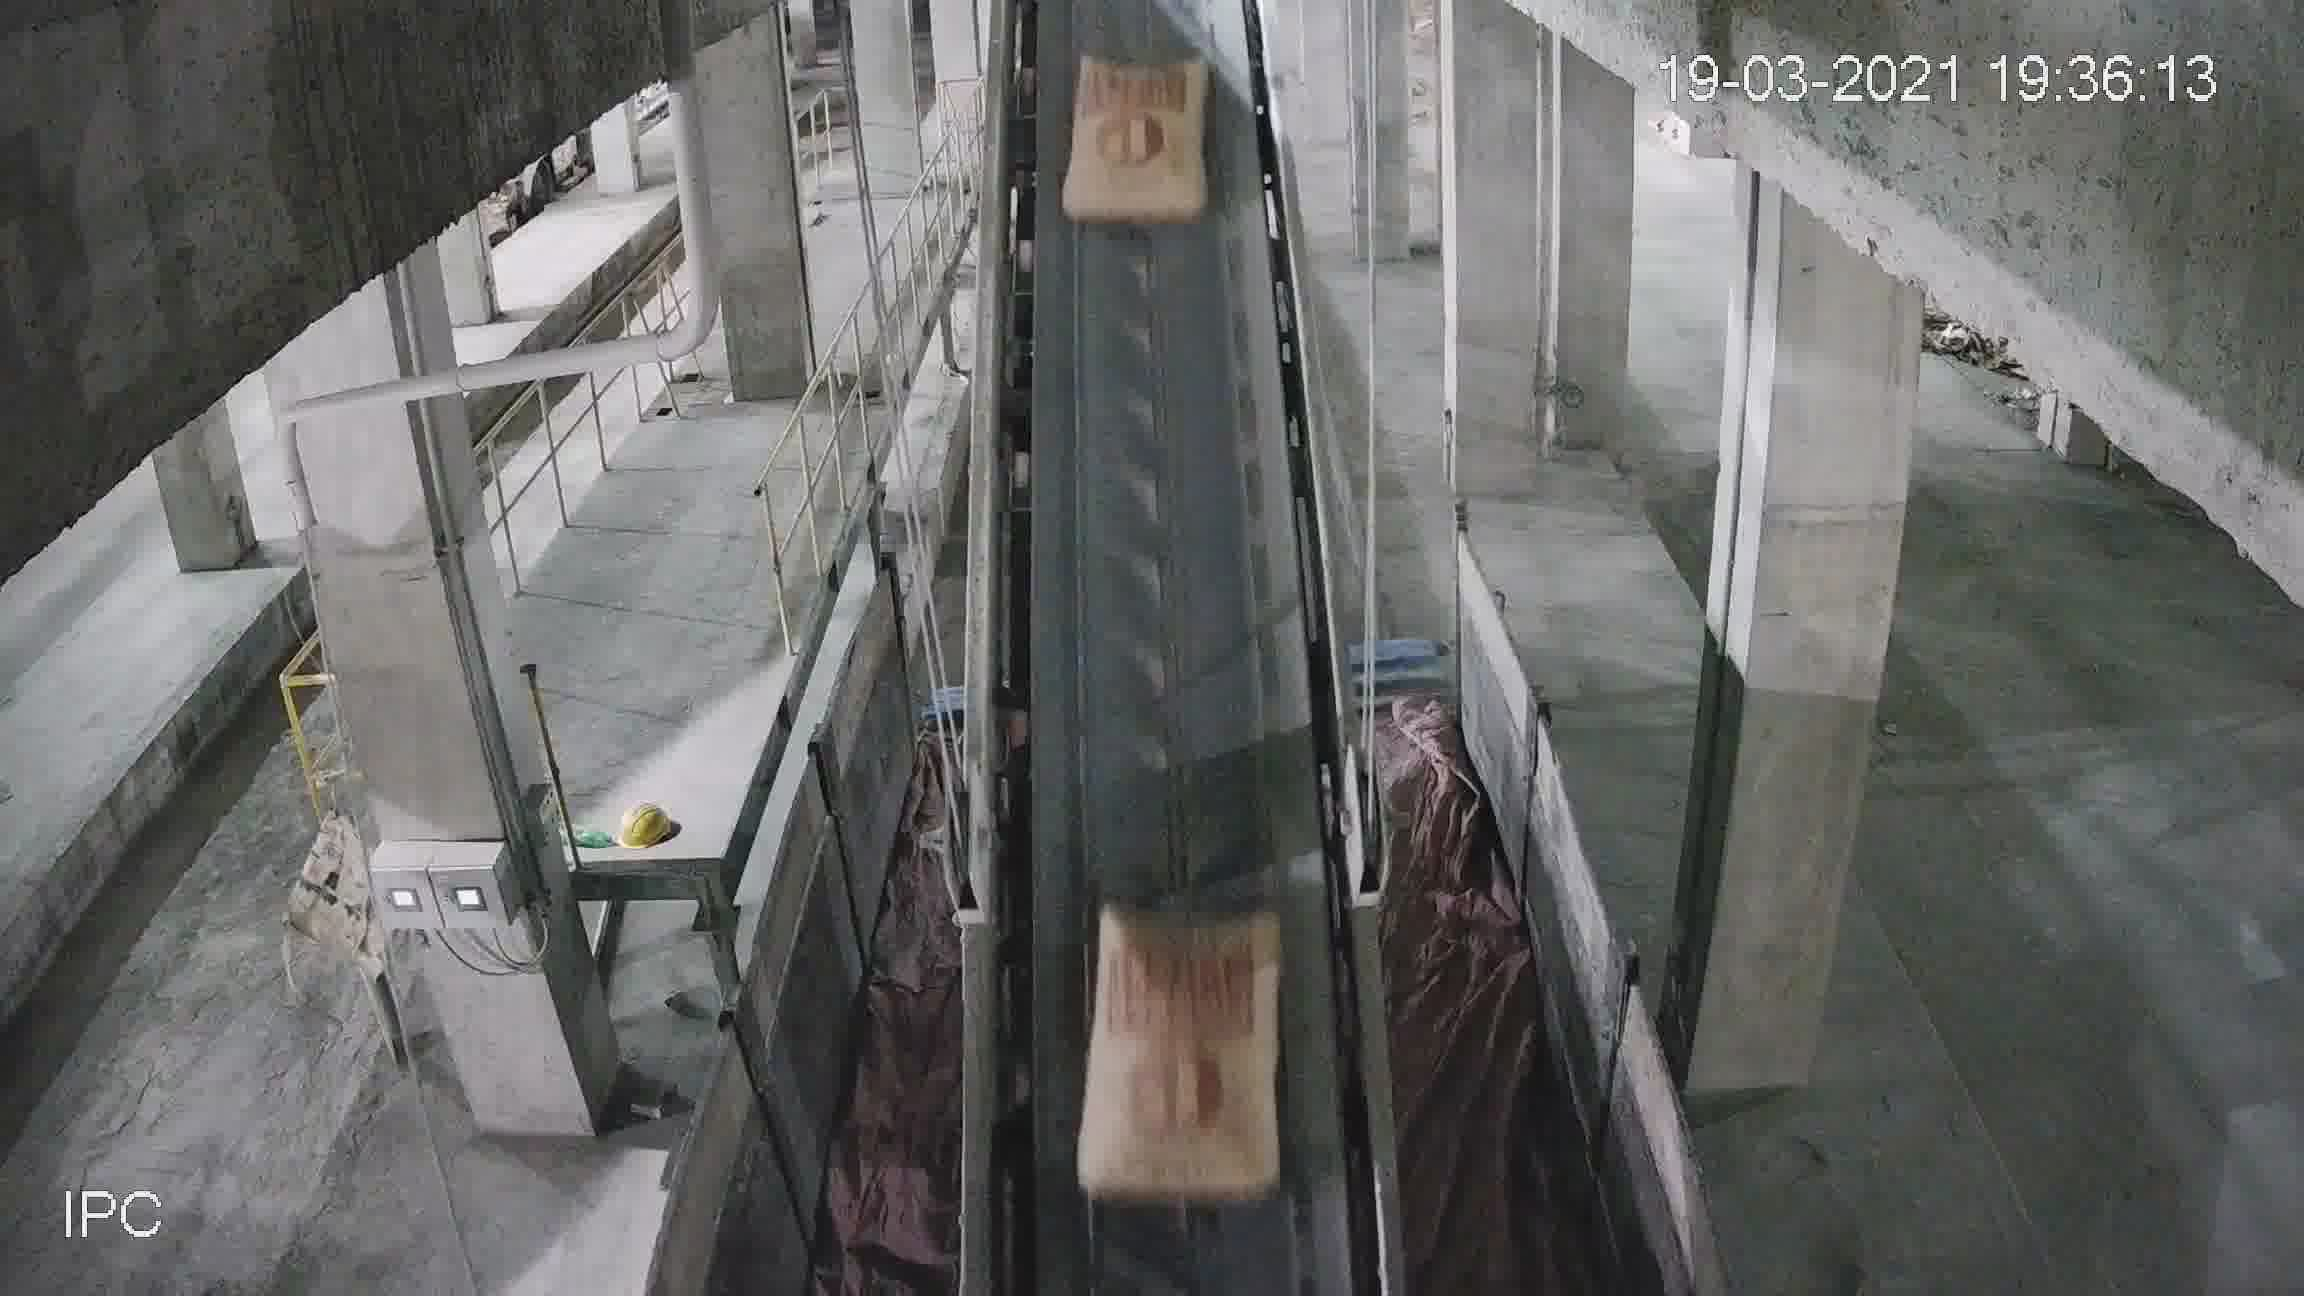bag: (1082, 900, 1287, 1215), (1070, 65, 1209, 225)
belt: (961, 38, 1380, 1228)
